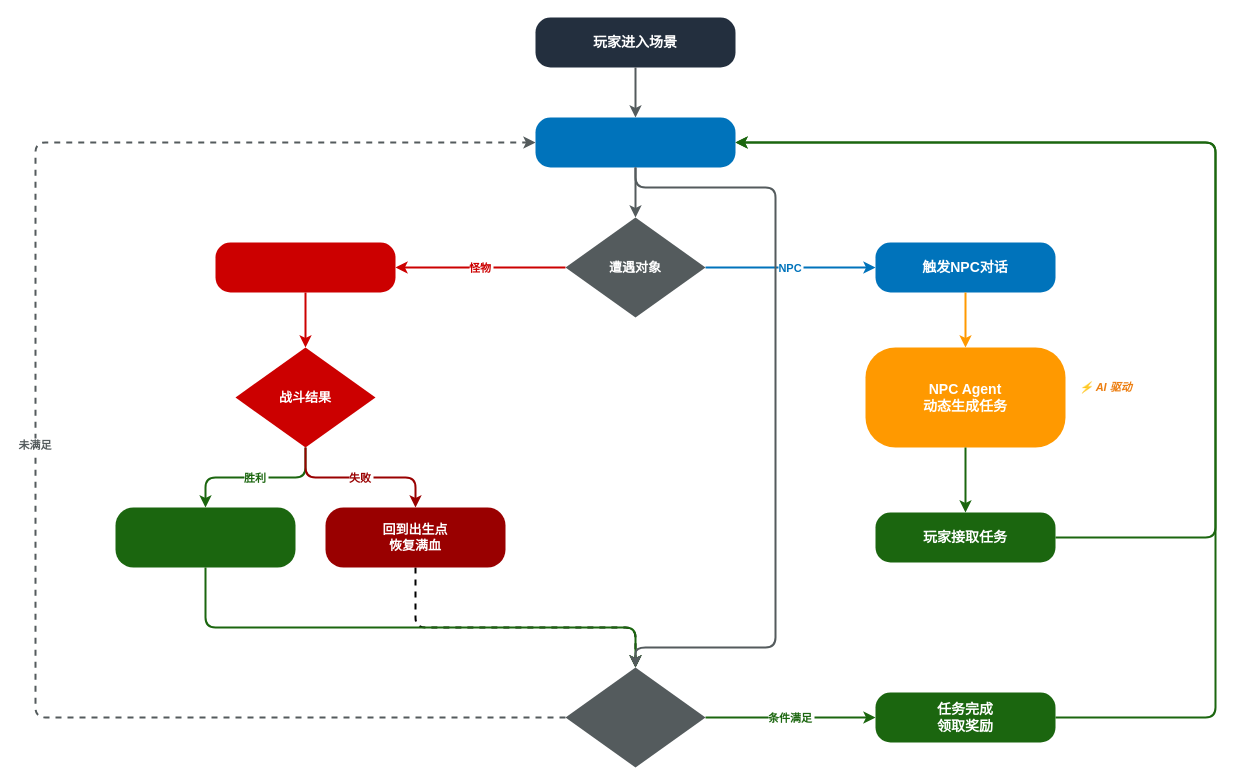
Some shapes in this 1241 by 784 pixel diagram are drawn without their labels. Each missing label, with the centre of its shape:
任务条件 检查: the point at 635,717
战斗结算 经验 / 金币 / 掉落: the point at 205,537
自动进入战斗: the point at 305,267
角色移动: the point at 635,142
